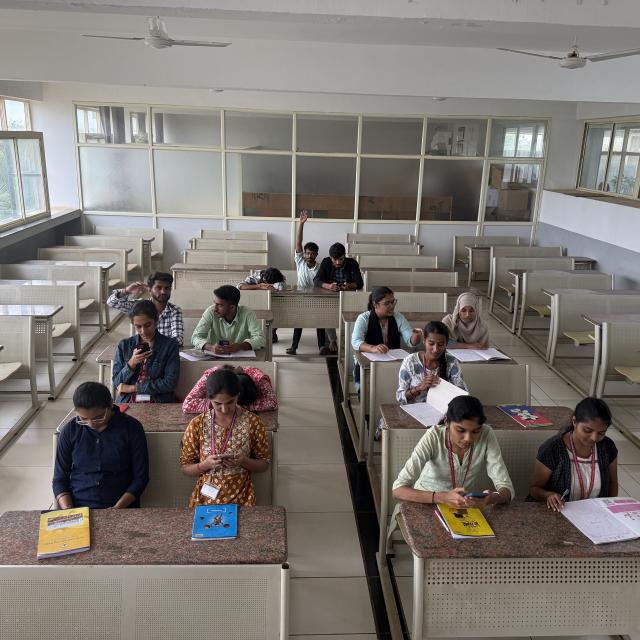Hand Rising: (294, 210, 322, 290)
Reading: (396, 323, 469, 417), (447, 289, 507, 361)
Sleeping: (183, 359, 286, 416), (236, 268, 291, 294)
Using Phone: (392, 396, 512, 505), (177, 368, 269, 507), (50, 381, 138, 509), (112, 299, 178, 397), (194, 287, 267, 355), (318, 244, 368, 290)
Writing: (529, 396, 627, 511)
